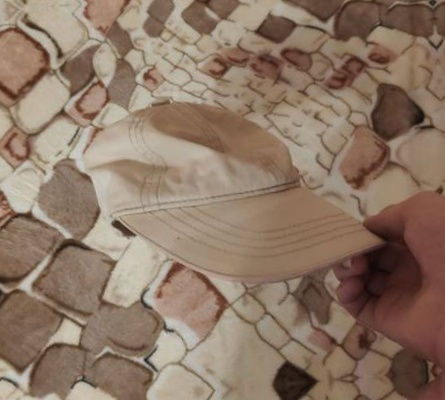Hat: (53, 36, 386, 333)
